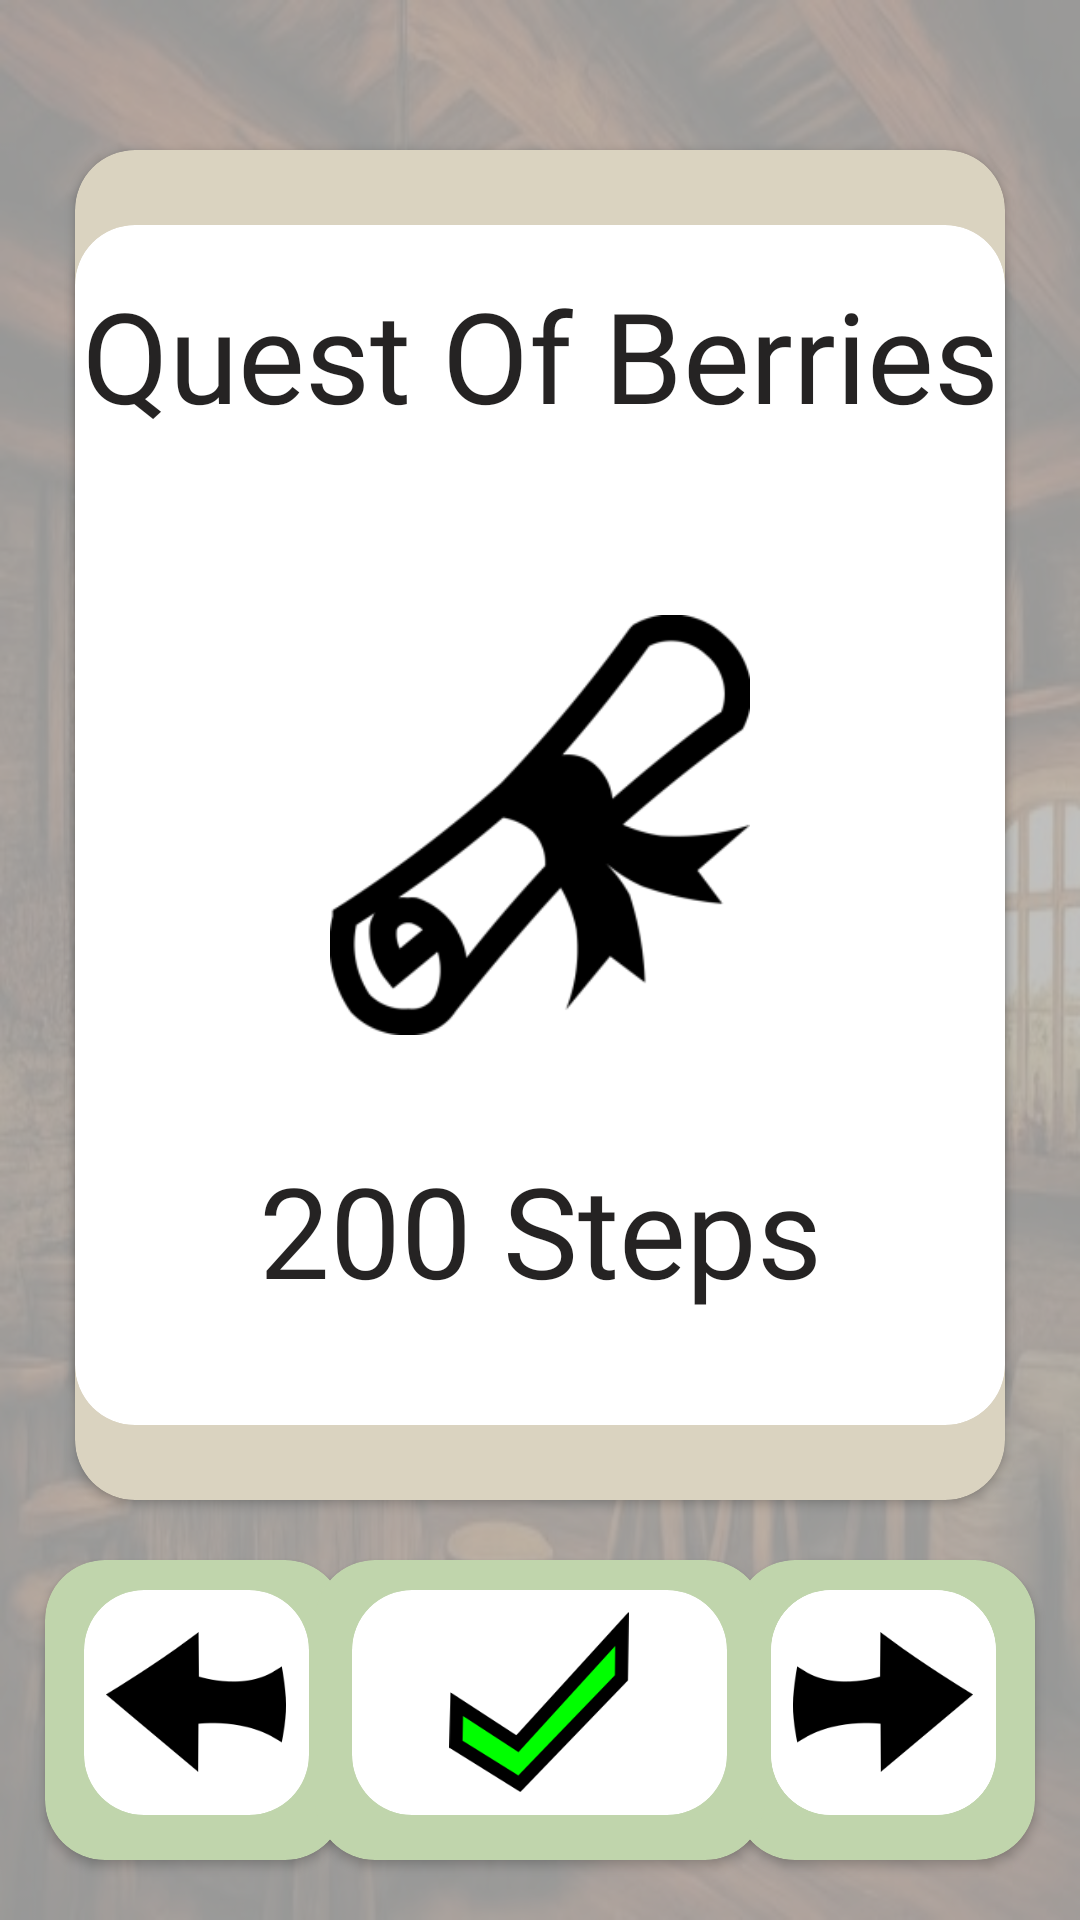

Icons on this 1080px×1920px Android screen, each with the point to tap as [x,y]:
arrow left: [196,1702]
check: [539,1702]
